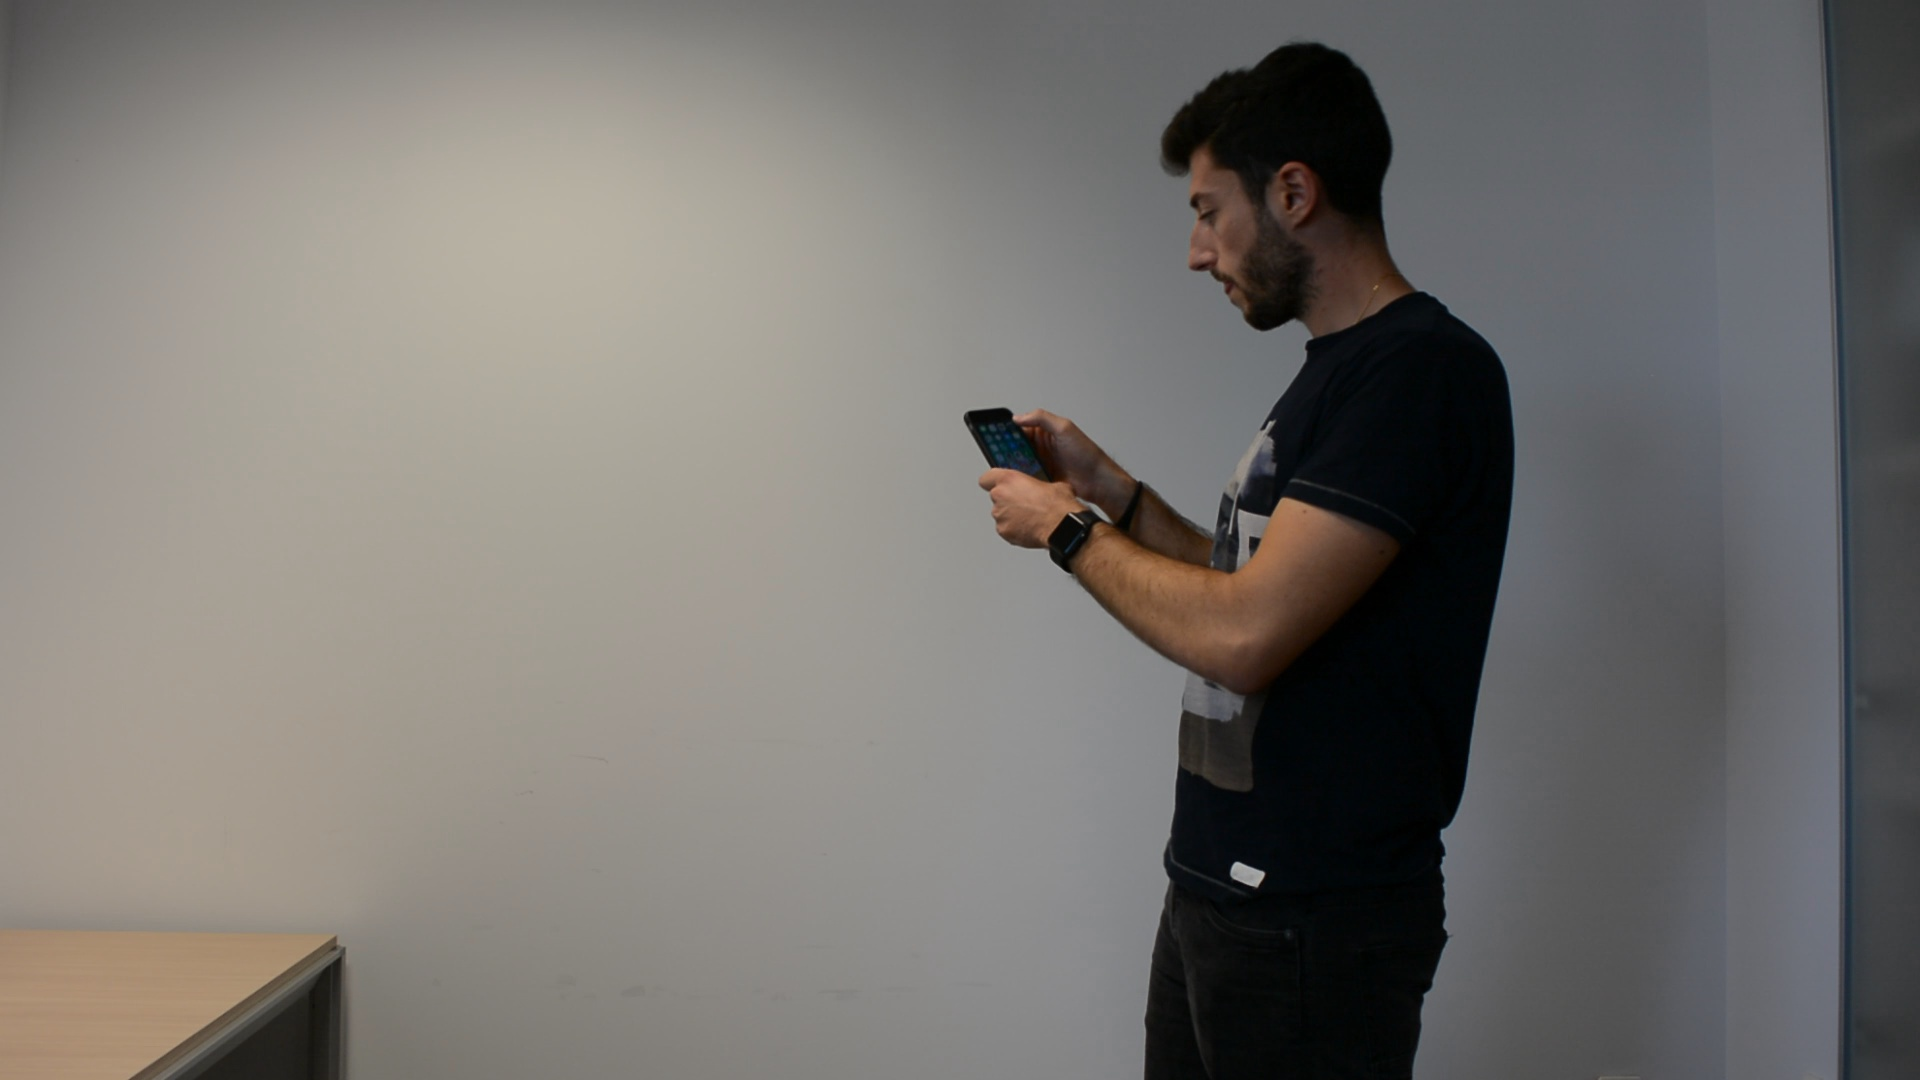smartphone: (963, 404, 1056, 491)
